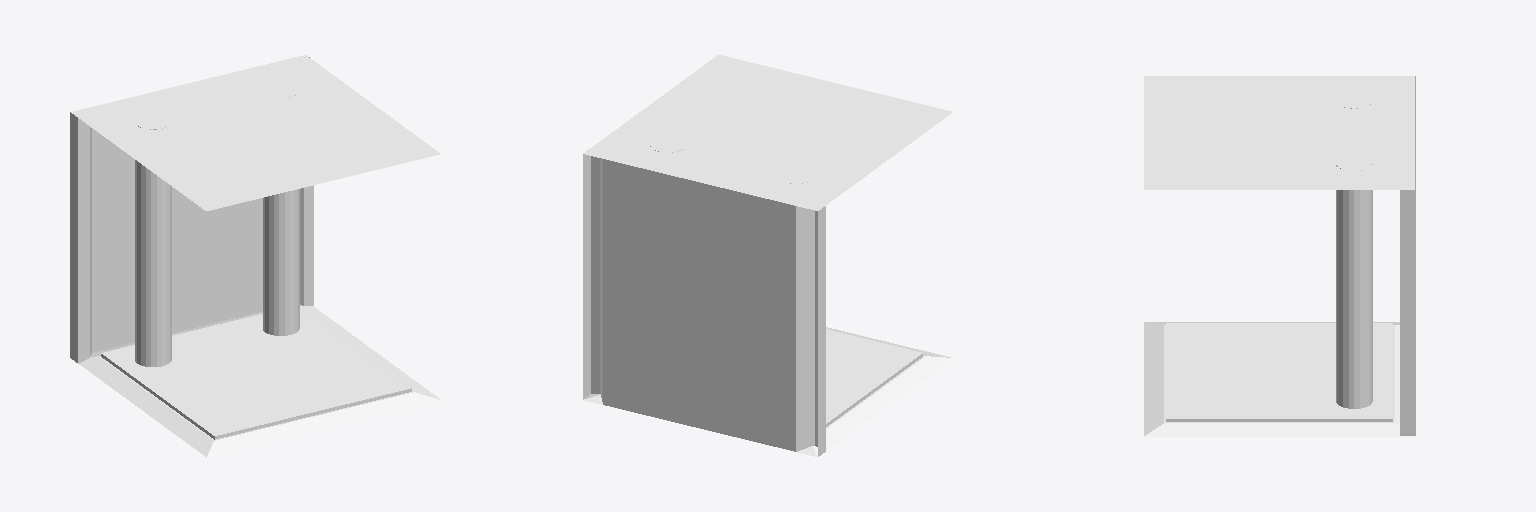
File: Cristal.obj
3 renders of one model, left to right at view 1: azimuth 30°, elevation 25°; view 2: azimuth 150°, elevation 25°; view 3: azimuth 270°, elevation 25°, orthographic.
Parts seen in each view (by area): view 1: wall, ceiling, floor; view 2: wall, ceiling, floor; view 3: ceiling, floor, wall.
Boxes of the visible parts, box(x1,y1,x2,y2) form: wall: box(70, 57, 313, 366); ceiling: box(71, 55, 440, 210); floor: box(79, 305, 440, 457); wall: box(583, 137, 825, 456); ceiling: box(583, 55, 952, 210); floor: box(583, 327, 952, 456); ceiling: box(1144, 76, 1414, 189); floor: box(1144, 322, 1415, 436); wall: box(1336, 76, 1415, 435).
Size of the model in its own units: 2.54 by 2.54 by 2.55.